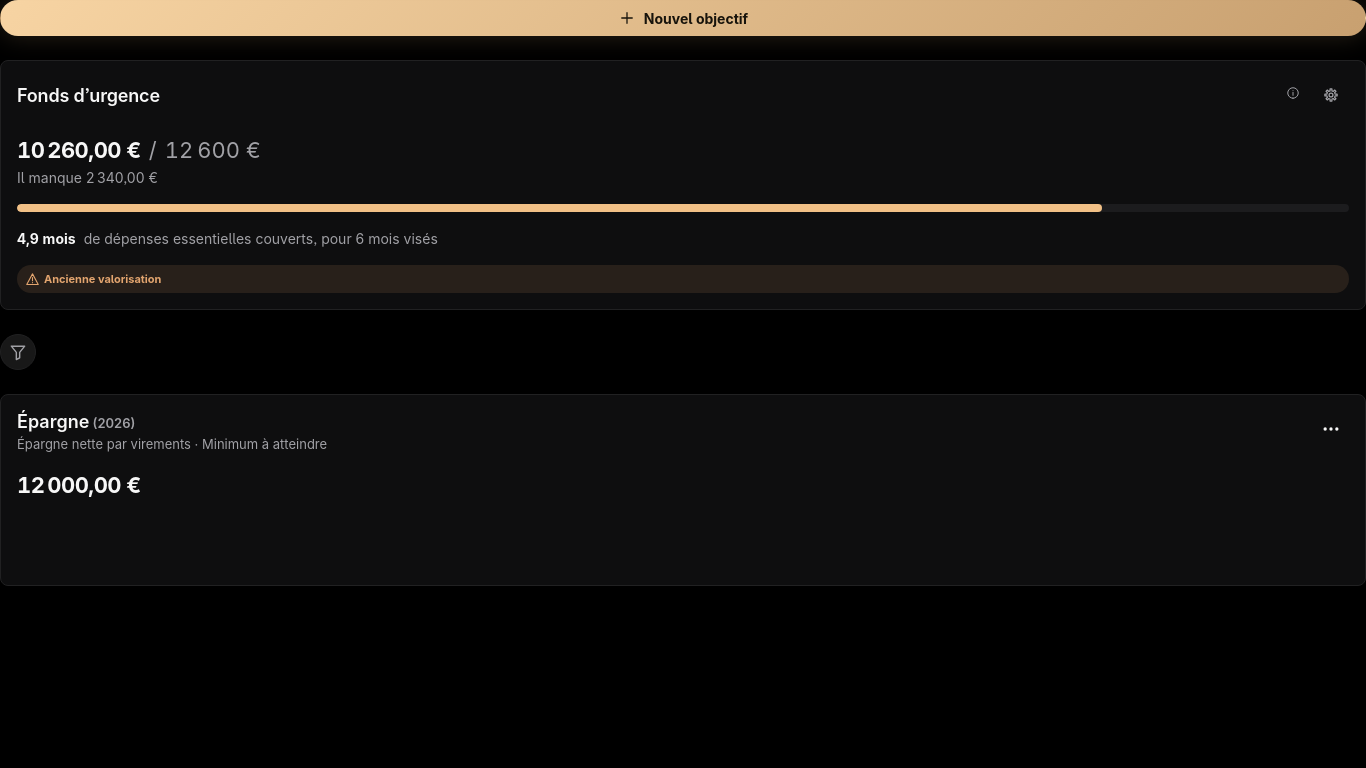
Test: GoalsPage › opens the close confirmation from the accessible action menu
Expected: the text "Épargne" is shown, [17, 411, 89, 432]
Click the button named "Actions de l’objectif « Épargne »". click: [1331, 429]
box: [1313, 411, 1349, 447]
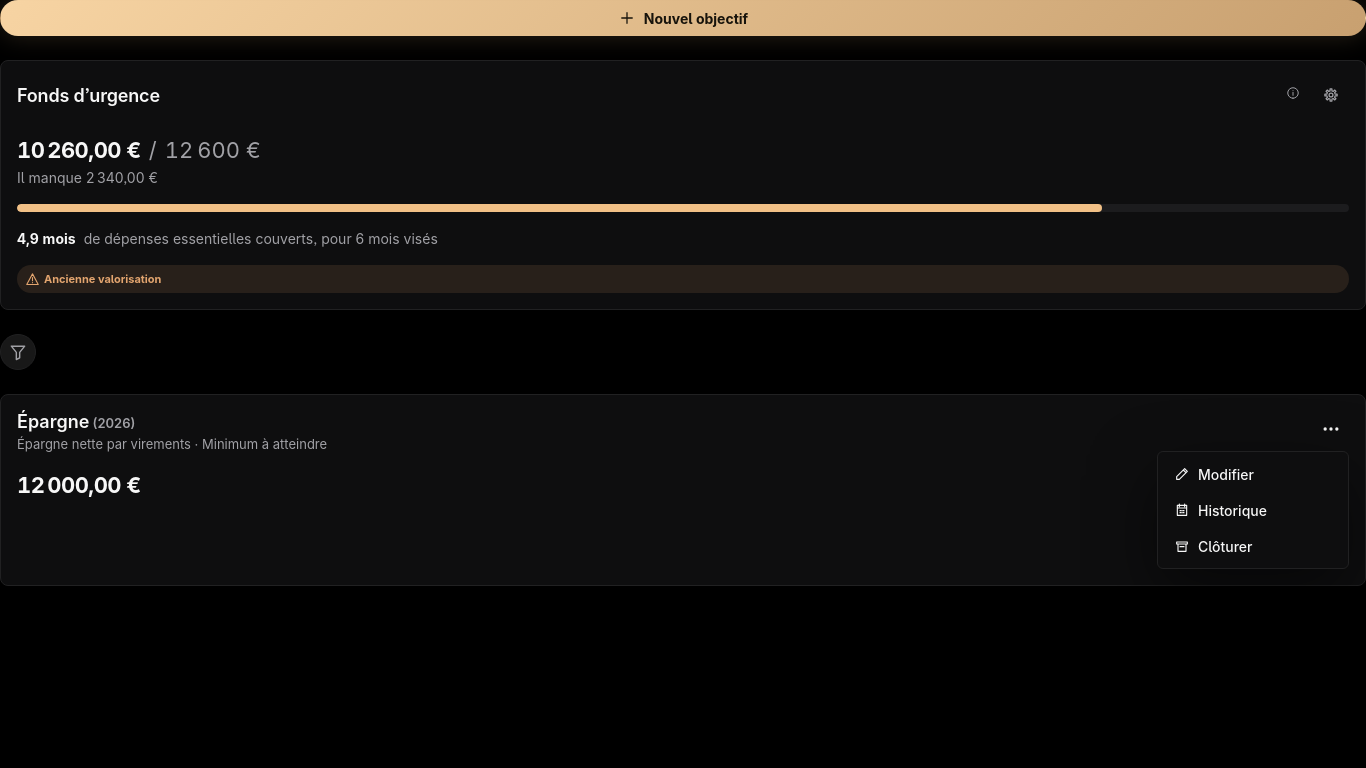
Click the button with aria-label "Clôturer l’objectif « Épargne »". click: [1253, 546]
box: [1162, 528, 1344, 564]
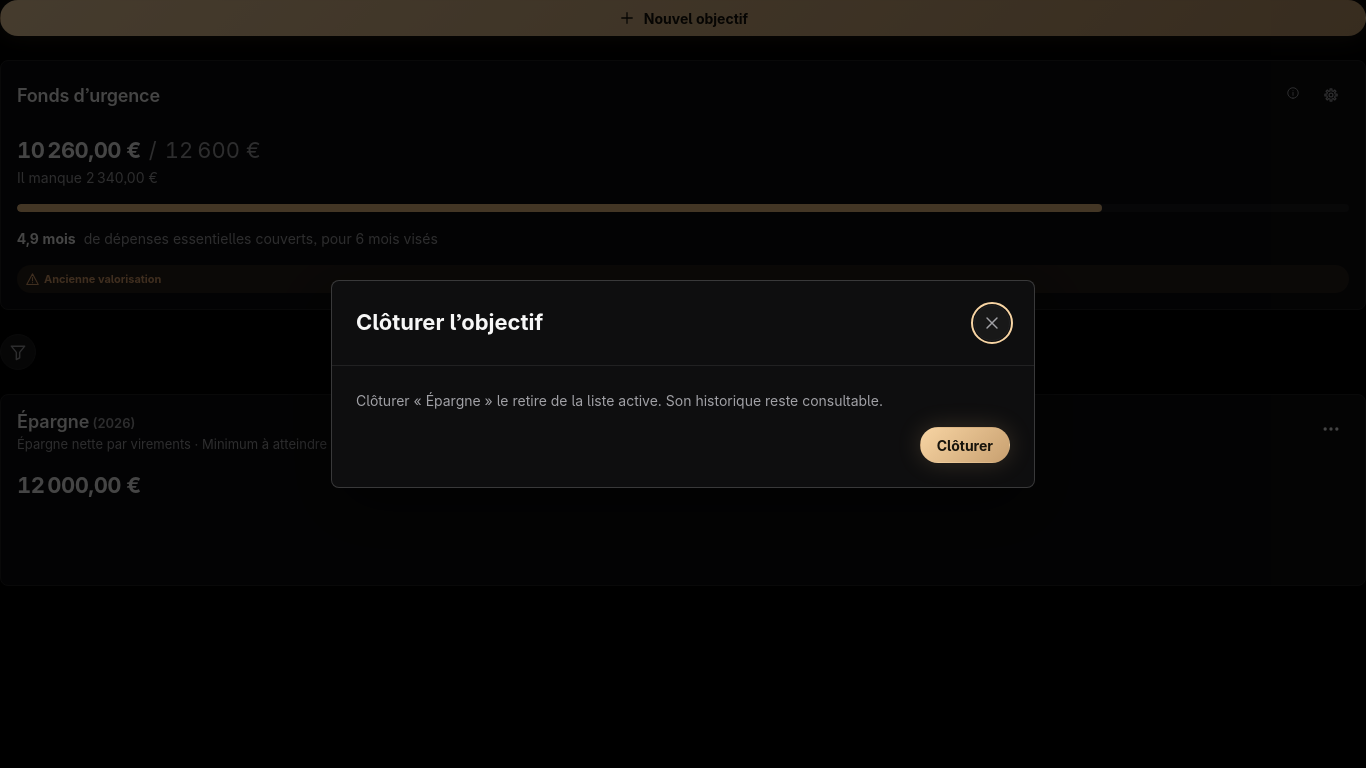
Now the dialog "Clôturer l’objectif" is shown, box [331, 280, 1035, 488]
